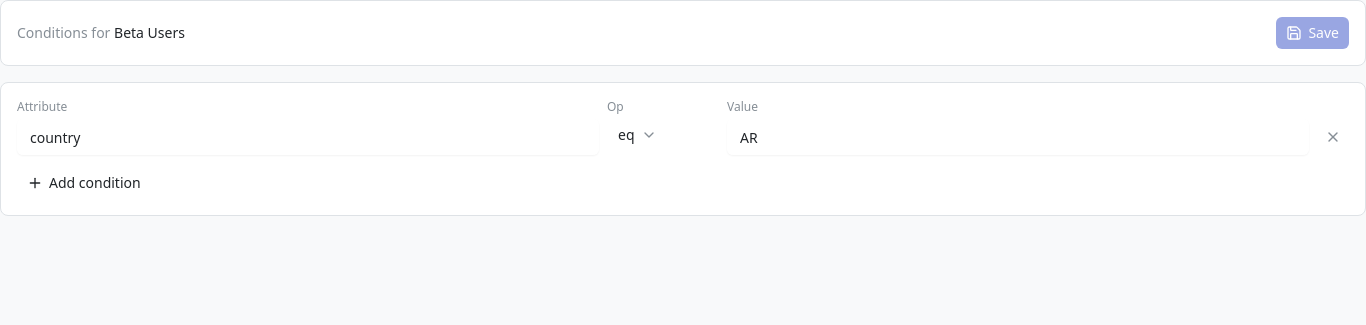
SegmentRuleEditor › adds a new condition row
Click the button "Add condition" at x=84, y=183, box top-left (17, 167), bottom-right (151, 199)
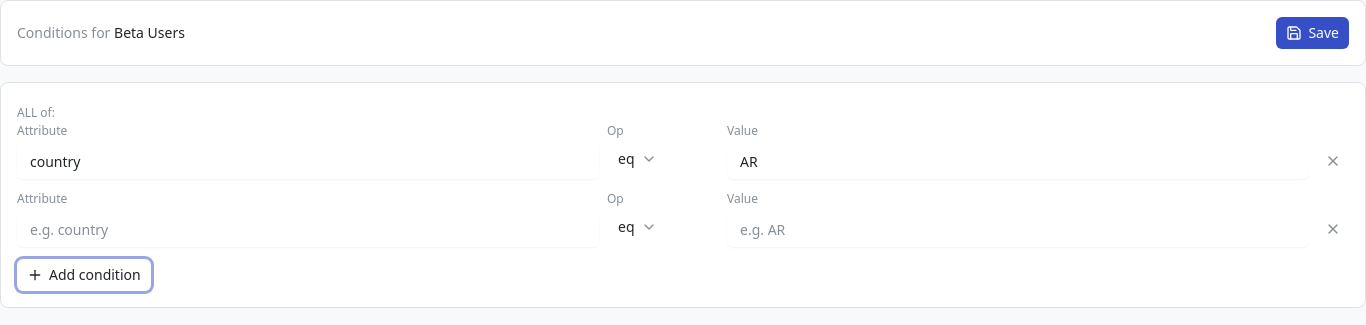
Expected: the number of fields named "attribute" is 2, top-left (17, 143), bottom-right (599, 179); top-left (17, 211), bottom-right (599, 247)
